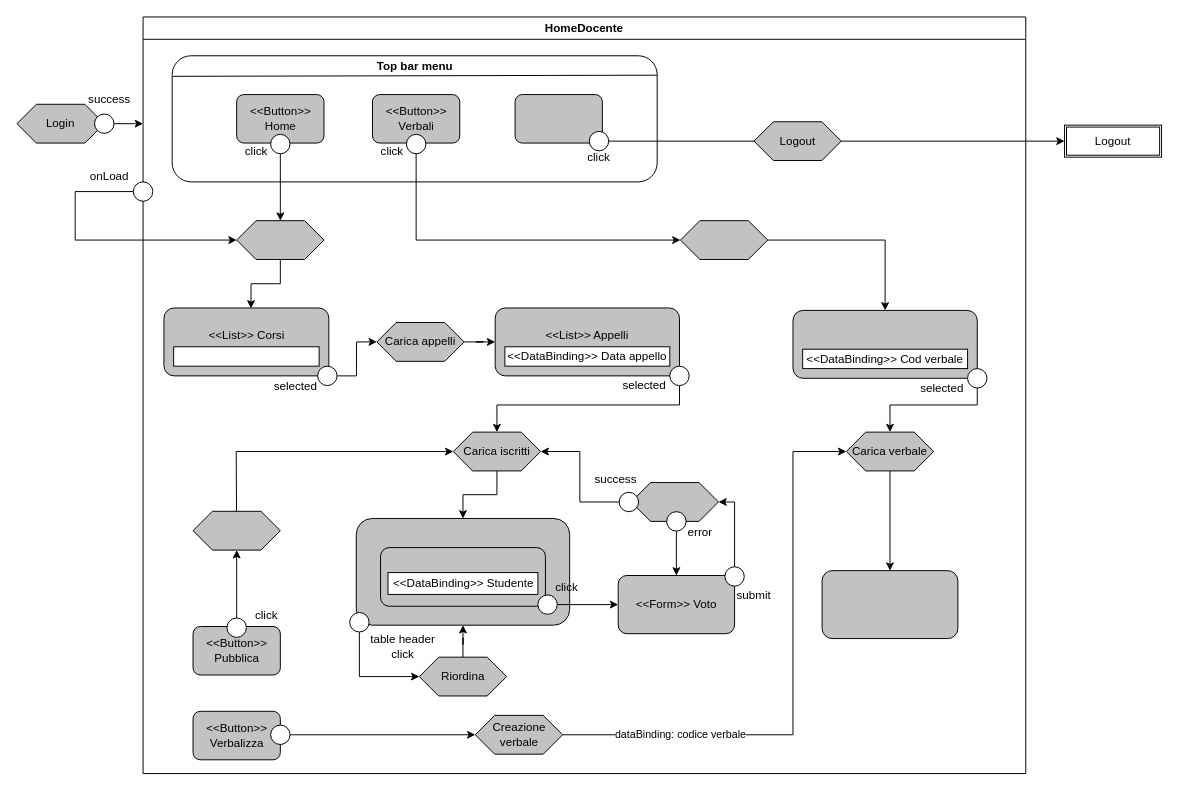
The diagram is 1179 pixels wide and 791 high, and some of its shapes have lost their labels. The box of each missing label's shape, as (x1, y1, x2, y2) in pixels:
<<Button>> Logout: (514, 94, 602, 143)
<<Button>> Modifica: (380, 547, 545, 606)
<<DataBinding>> Corso: (173, 346, 319, 366)
<<Form>> Verbale: (821, 570, 958, 639)
<<List>> Iscritti: (355, 517, 570, 625)
<<List>> Verbali: (792, 309, 977, 378)
Carica corsi: (236, 220, 324, 259)
Carica verbali: (679, 220, 768, 259)
Modifica voto: (630, 482, 718, 521)
Pubblicazione: (192, 510, 280, 550)
